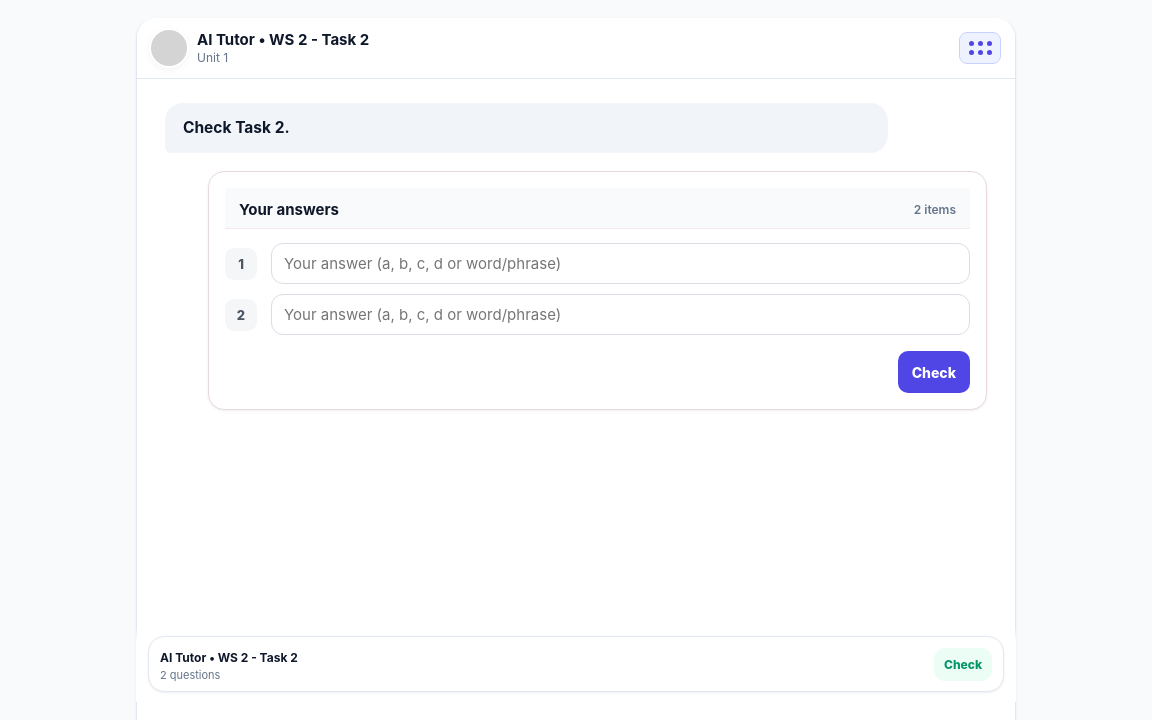
Test case: Navigation and Cue vs Hint Separation › DynamicTaskRunner clearly distinguishes câu dẫn (cue) and hint đáp án in retry mode
The width and height of the screenshot is (1152, 720).
Note: Nhập câu 1 đúng ("study"), câu 2 sai ("play")
Type "study" into the 1st field with placeholder "Your answer (a, b, c, d or word/phrase)" at point(620, 264), box x1=271 y1=243 x2=970 y2=284
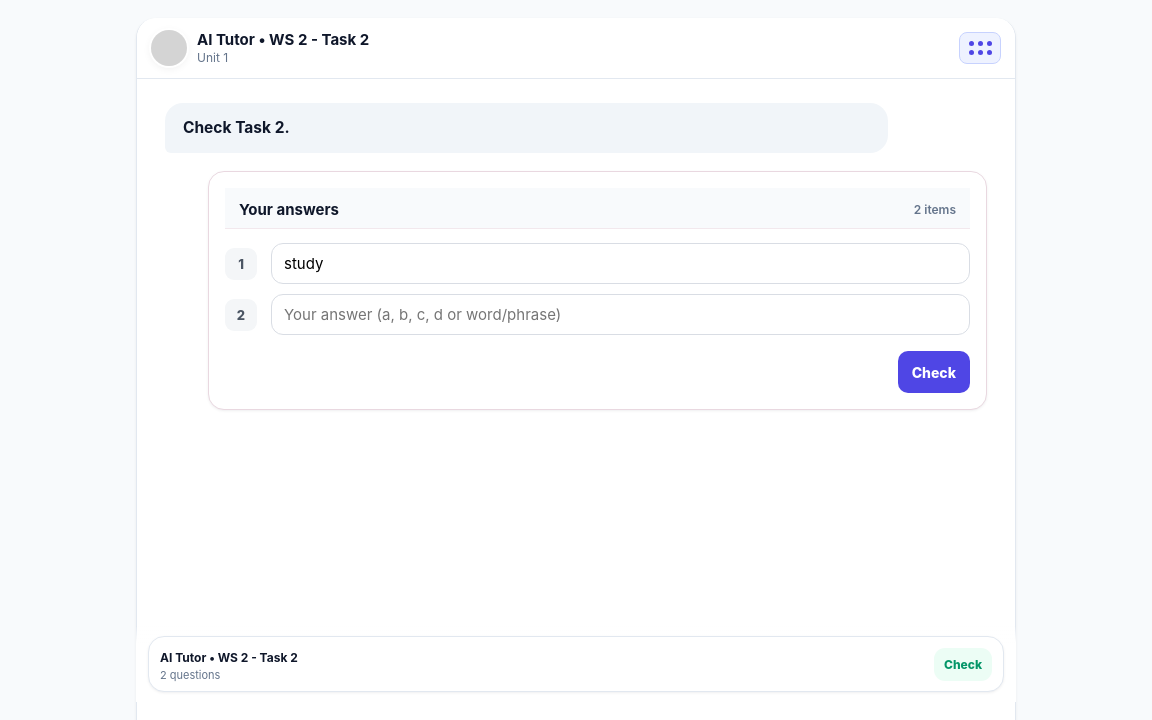
Type "play" into the field with placeholder "Your answer (a, b, c, d or word/phrase)" at point(620, 314), box x1=271 y1=294 x2=970 y2=335
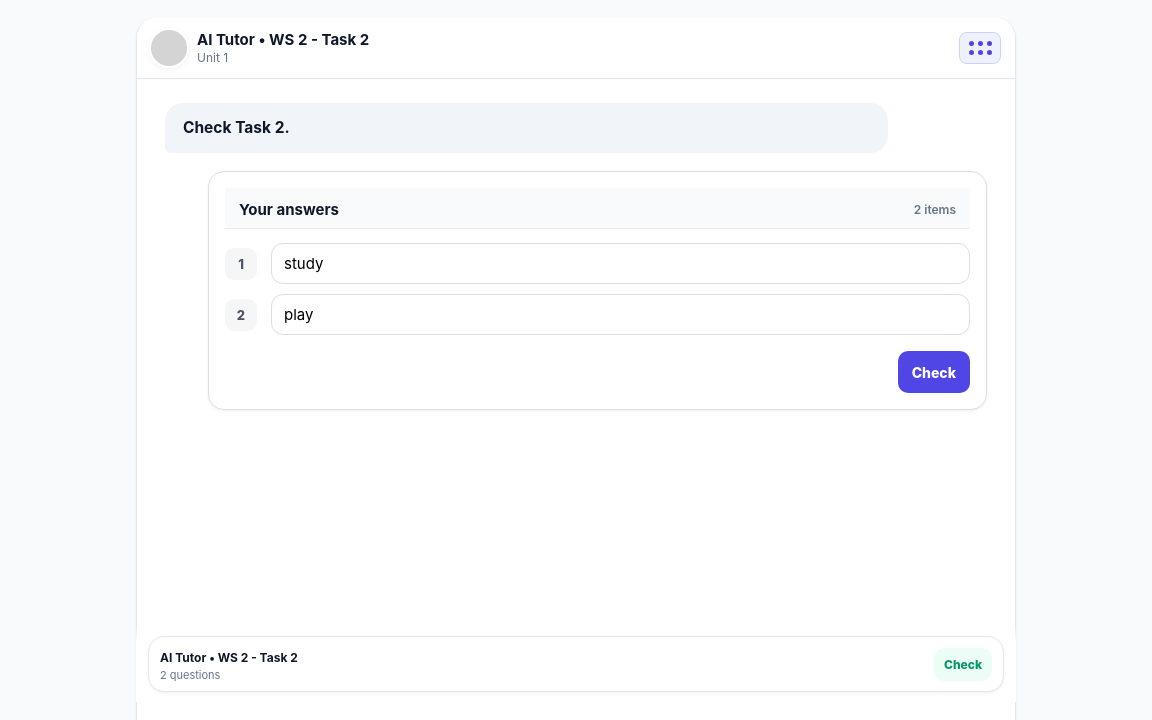
Click the button with id "initialCheckBtn" at point(934, 372), box x1=898 y1=351 x2=970 y2=393
(page scrolled)
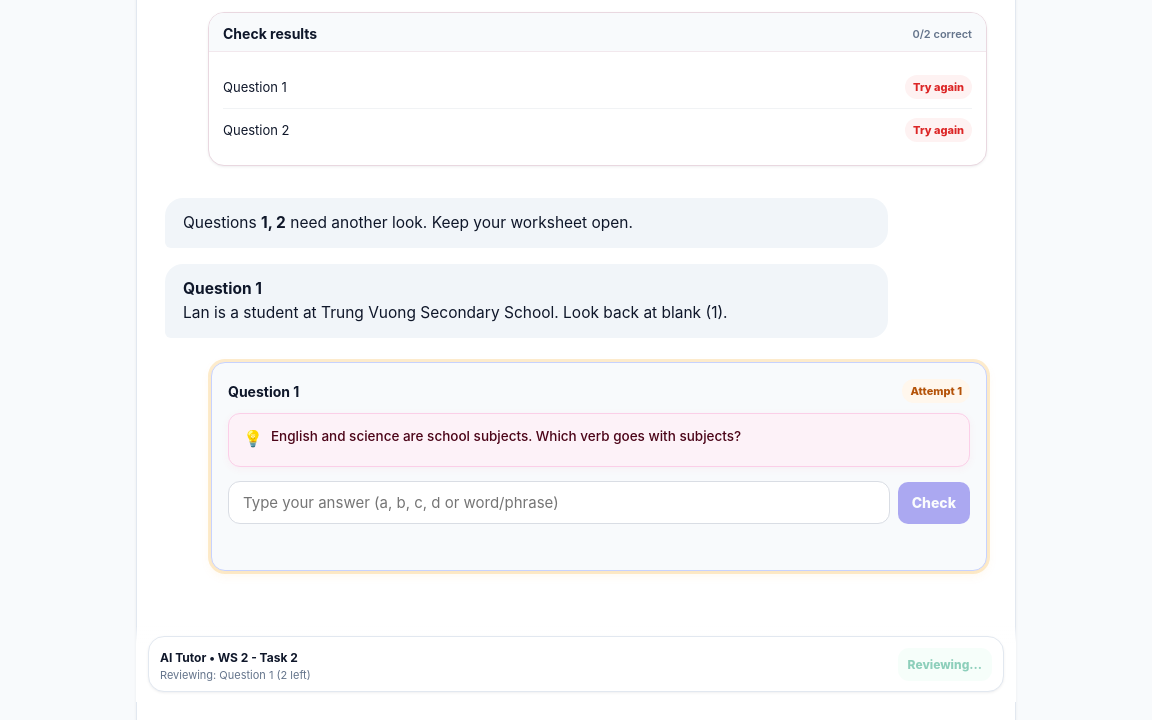
Now the text "Lan is a student at Trung Vuong Secondary School. Look back at blank (1)." is shown, box x1=183 y1=303 x2=728 y2=322
Now the text "💡" is shown, box x1=243 y1=426 x2=263 y2=450
Now the text "English and science are school subjects. Which verb goes with subjects?" is shown, box x1=271 y1=426 x2=741 y2=446
